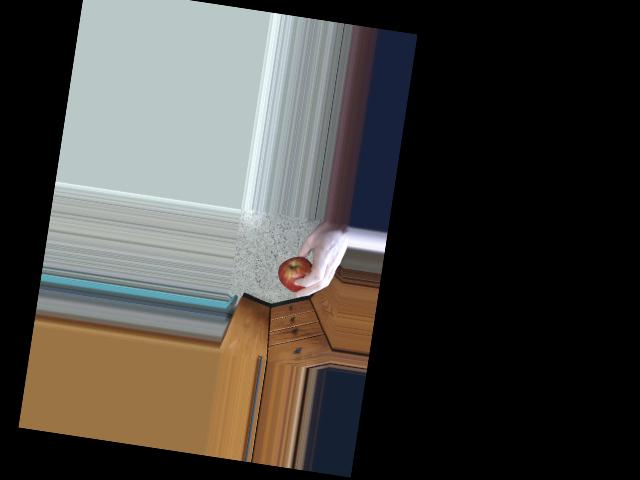apple: (274, 251, 319, 299)
